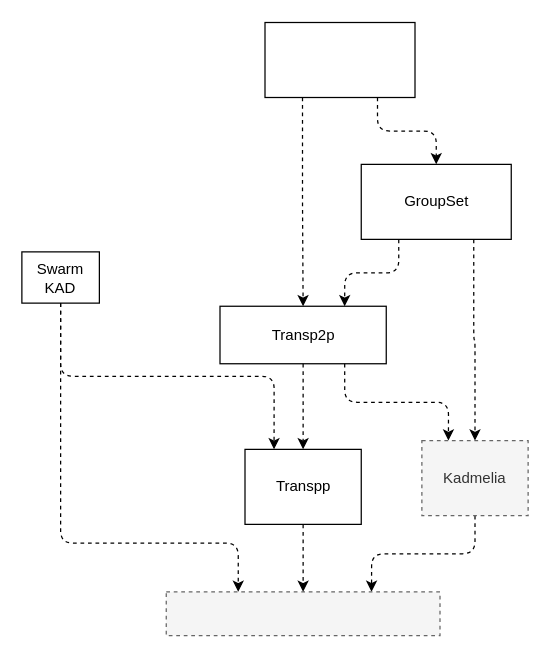
The diagram is 550 pixels wide and 658 high, and some of its shapes have lost their labels. The centre of each missing label's shape, as x and y in pixels:
PeerSet: the point at 302,613
SeedGroup: the point at 339,59
